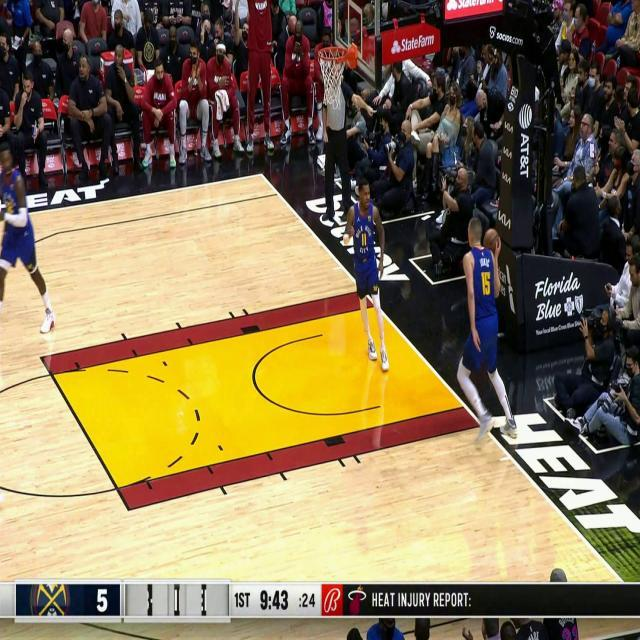rim: (484, 230, 499, 252)
